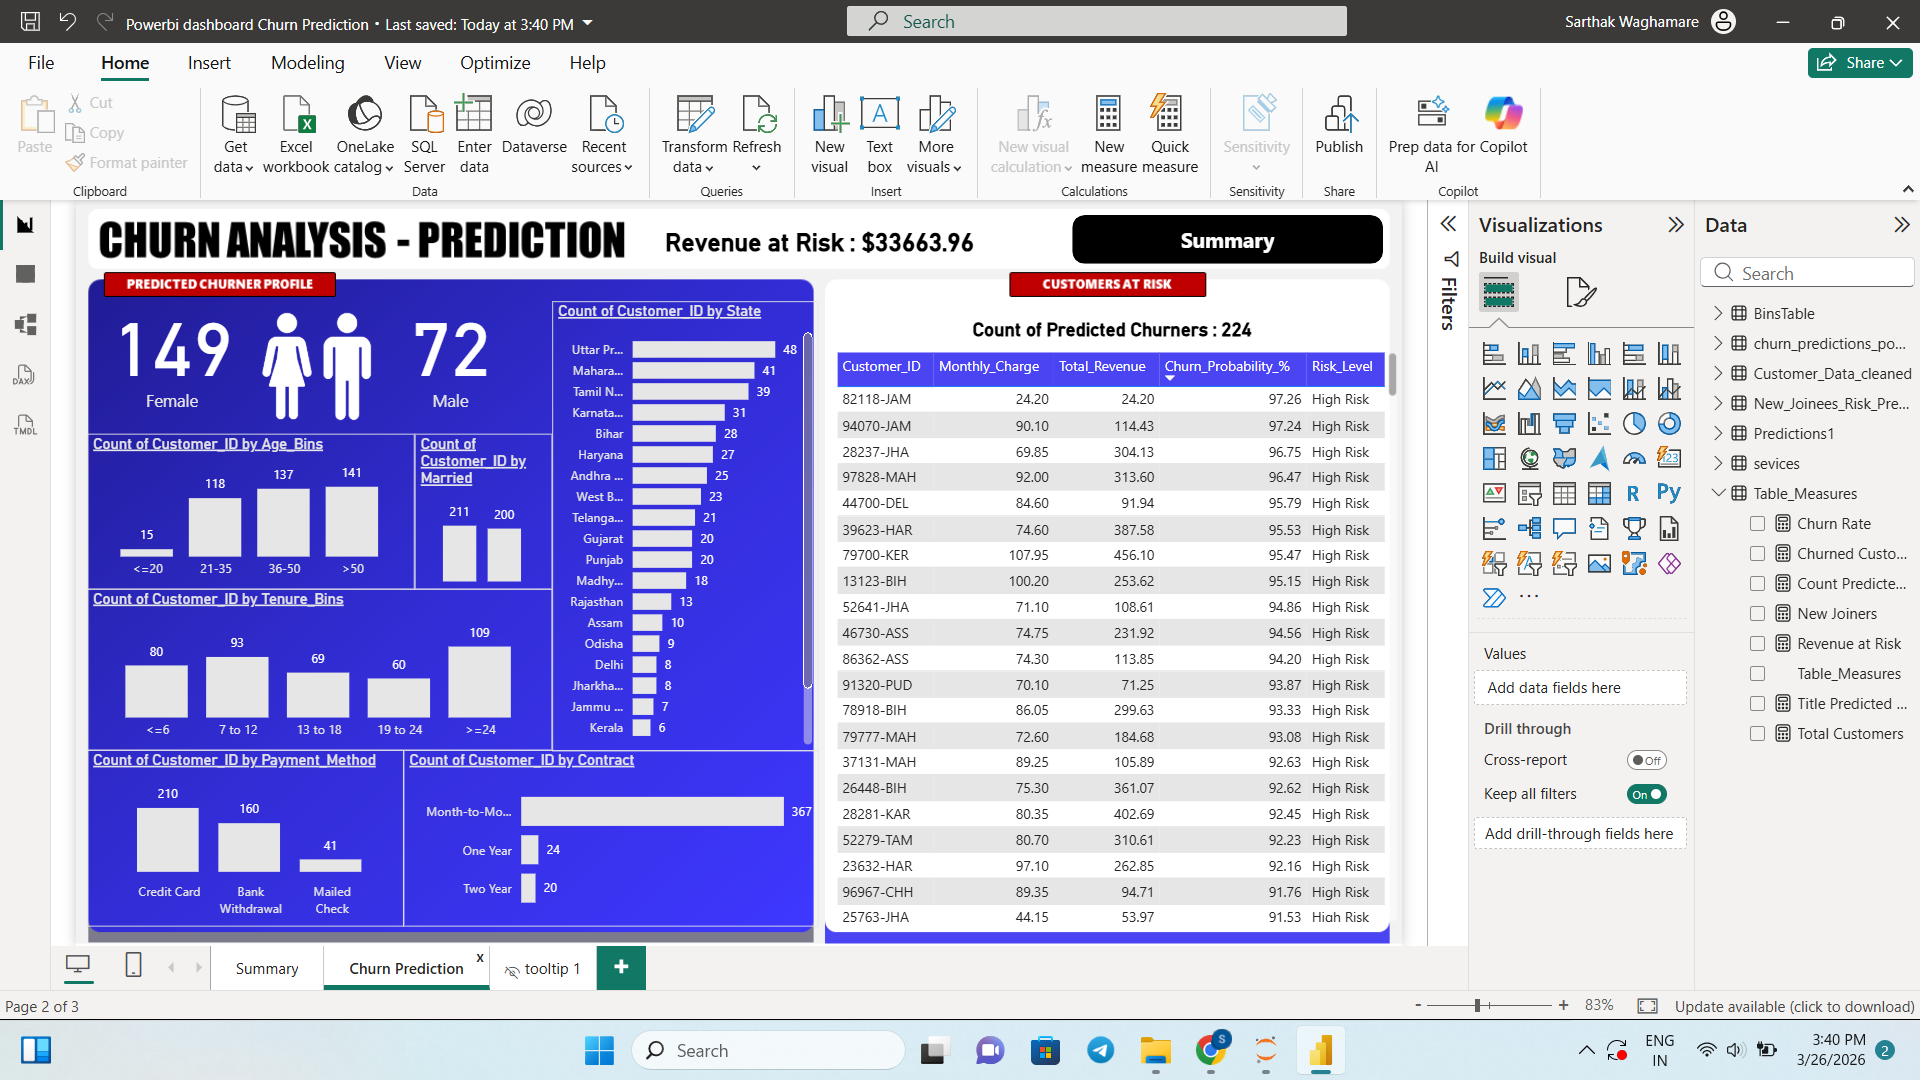

This screenshot's page, from the dashboard's own definition file:
{"tool":"powerbi","page":{"name":"Churn Prediction","canvas":[1280,720],"ordinal":1},"visuals":[{"type":"tableEx","fields":{"Values":["New_Joinees_Risk_Predictions(Logistic Regression).Customer_ID","New_Joinees_Risk_Predictions(Logistic Regression).Monthly_Charge","New_Joinees_Risk_Predictions(Logistic Regression).Total_Revenue","New_Joinees_Risk_Predictions(Logistic Regression).Churn_Probability_%","New_Joinees_Risk_Predictions(Logistic Regression).Risk_Level"]},"box":[728.6,142.9,551.4,558.6],"z":0},{"type":"clusteredColumnChart","fields":{"Category":["BinsTable.Age_Bins"],"Y":["CountNonNull(New_Joinees_Risk_Predictions(Logistic Regression).Customer_ID)"]},"box":[11.4,225.7,315.7,150],"z":1000},{"type":"clusteredColumnChart","fields":{"Y":["CountNonNull(New_Joinees_Risk_Predictions(Logistic Regression).Customer_ID)"],"Category":["New_Joinees_Risk_Predictions(Logistic Regression).Married"]},"box":[327.1,225.7,132.9,150],"z":2000},{"type":"clusteredColumnChart","fields":{"Category":["BinsTable.Tenure_Bins"],"Y":["CountNonNull(New_Joinees_Risk_Predictions(Logistic Regression).Customer_ID)"]},"box":[11.4,375.7,448.6,155.7],"z":3000},{"type":"clusteredColumnChart","fields":{"Category":["New_Joinees_Risk_Predictions(Logistic Regression).Payment_Method"],"Y":["CountNonNull(New_Joinees_Risk_Predictions(Logistic Regression).Customer_ID)"]},"box":[11.4,531.4,305.7,170],"z":4000},{"type":"clusteredBarChart","fields":{"Category":["New_Joinees_Risk_Predictions(Logistic Regression).Contract"],"Y":["CountNonNull(New_Joinees_Risk_Predictions(Logistic Regression).Customer_ID)"]},"box":[316.1,530.8,400.5,170.1],"z":5000},{"type":"clusteredBarChart","fields":{"Category":["New_Joinees_Risk_Predictions(Logistic Regression).State"],"Y":["CountNonNull(New_Joinees_Risk_Predictions(Logistic Regression).Customer_ID)"]},"box":[460,97.1,257.1,434.3],"z":6000},{"type":"card","fields":{"Values":["Table_Measures.Count Predicted Churners"]},"box":[11.4,80,164.3,131.4],"z":7000},{"type":"card","fields":{"Values":["Table_Measures.Count Predicted Churners"]},"box":[278.6,80,165.7,131.4],"z":8000},{"type":"card","fields":{"Values":["Table_Measures.Title Predicted Churner"]},"box":[740,80,521.4,91.4],"z":9000},{"type":"image","box":[164.3,94.3,135.7,131.4],"z":10000},{"type":"shape","box":[961.4,14.3,300,47.1],"z":11000},{"type":"card","fields":{"Values":["Table_Measures.Revenue at Risk"]},"box":[457.1,0,521.4,80],"z":12000}]}

Visuals, with their boxes on the page's 1280x720 design canvas (x1, y1, x2, y2). These are canvas units, not pixel positions in the 1920x1080 screenshot, which may show the page scaled, cropped or inside an application window:
tableEx - New_Joinees_Risk_Predictions(Logistic Regression).Customer_ID x New_Joinees_Risk_Predictions(Logistic Regression).Monthly_Charge: 729, 143, 1280, 702
clusteredColumnChart - BinsTable.Age_Bins x CountNonNull(New_Joinees_Risk_Predictions(Logistic Regression).Customer_ID): 11, 226, 327, 376
clusteredColumnChart - CountNonNull(New_Joinees_Risk_Predictions(Logistic Regression).Customer_ID) x New_Joinees_Risk_Predictions(Logistic Regression).Married: 327, 226, 460, 376
clusteredColumnChart - BinsTable.Tenure_Bins x CountNonNull(New_Joinees_Risk_Predictions(Logistic Regression).Customer_ID): 11, 376, 460, 531
clusteredColumnChart - New_Joinees_Risk_Predictions(Logistic Regression).Payment_Method x CountNonNull(New_Joinees_Risk_Predictions(Logistic Regression).Customer_ID): 11, 531, 317, 701
clusteredBarChart - New_Joinees_Risk_Predictions(Logistic Regression).Contract x CountNonNull(New_Joinees_Risk_Predictions(Logistic Regression).Customer_ID): 316, 531, 717, 701
clusteredBarChart - New_Joinees_Risk_Predictions(Logistic Regression).State x CountNonNull(New_Joinees_Risk_Predictions(Logistic Regression).Customer_ID): 460, 97, 717, 531
card - Table_Measures.Count Predicted Churners: 11, 80, 176, 211
card - Table_Measures.Count Predicted Churners: 279, 80, 444, 211
card - Table_Measures.Title Predicted Churner: 740, 80, 1261, 171
image: 164, 94, 300, 226
shape: 961, 14, 1261, 61
card - Table_Measures.Revenue at Risk: 457, 0, 978, 80
